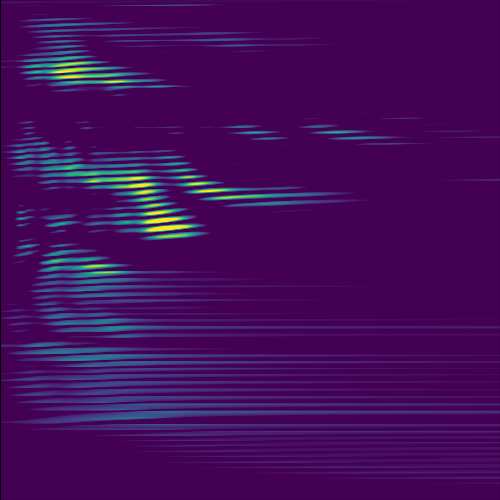semblance: (46, 50, 139, 93), (138, 199, 198, 242), (115, 166, 164, 201)
